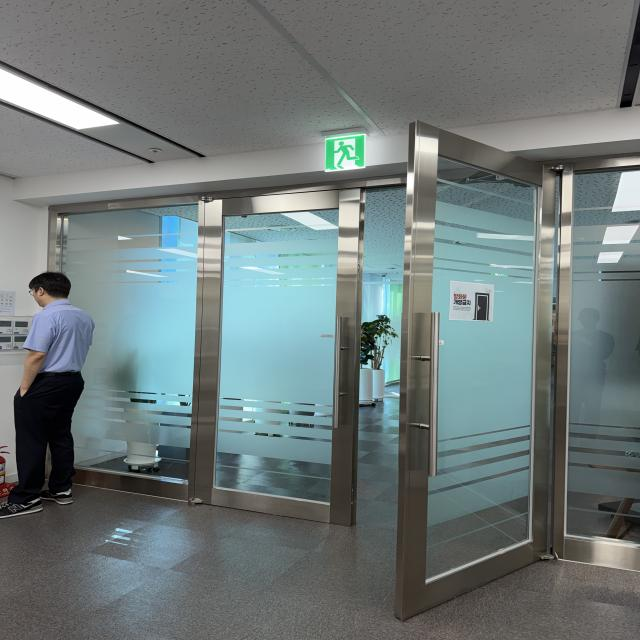front_door: (48, 153, 640, 576)
